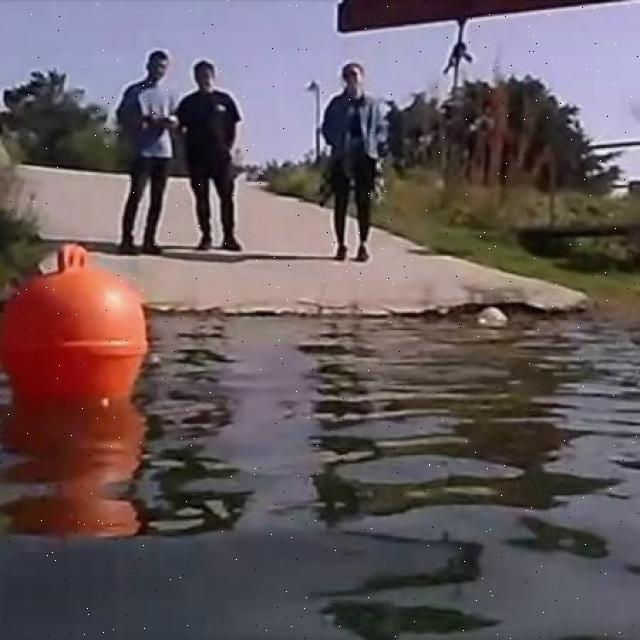buoy: (0, 240, 145, 402)
